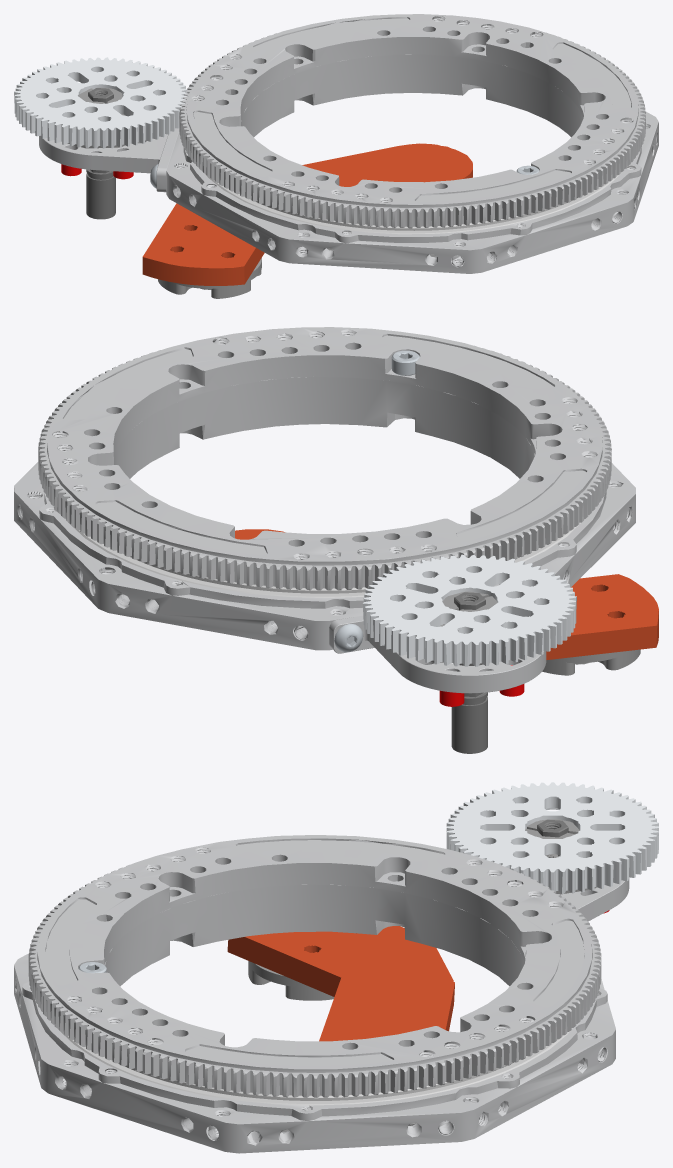
File: turret.glb
3 views of the same model, one above another, from view 1: azimuth 30°, elevation 25°; view 2: azimuth 150°, elevation 25°; view 3: azimuth 270°, elevation 25° (orthographic). The views are drawn at different scales.
Visible parts, largest first — view 1: part-135, part-130, part-133, part-142, part-326, part-128, part-124, part-137, part-125, part-329; view 2: part-135, part-130, part-133, part-142, part-326, part-128, part-137, part-124, part-329, part-125, part-129; view 3: part-135, part-130, part-133, part-142, part-326, part-124, part-125, part-128, part-329.
Part boxes in pixels (<box>): part-135: <box>179,14,645,228</box>; part-130: <box>166,111,658,273</box>; part-133: <box>241,52,582,137</box>; part-142: <box>14,57,187,148</box>; part-326: <box>142,143,472,285</box>; part-128: <box>39,128,179,192</box>; part-124: <box>205,165,634,256</box>; part-137: <box>86,88,115,219</box>; part-125: <box>250,197,577,230</box>; part-329: <box>158,258,261,298</box>; part-135: <box>38,327,611,590</box>; part-130: <box>14,462,635,650</box>; part-133: <box>76,376,534,488</box>; part-142: <box>362,554,576,666</box>; part-326: <box>235,529,658,659</box>; part-128: <box>329,615,546,693</box>; part-137: <box>451,592,487,753</box>; part-124: <box>65,518,584,597</box>; part-329: <box>542,649,640,675</box>; part-125: <box>123,550,532,593</box>; part-129: <box>334,624,363,652</box>; part-135: <box>28,835,601,1097</box>; part-130: <box>14,953,615,1153</box>; part-133: <box>104,881,526,1054</box>; part-142: <box>446,782,658,893</box>; part-326: <box>227,926,454,1041</box>; part-124: <box>58,1028,572,1131</box>; part-125: <box>111,1059,519,1100</box>; part-128: <box>560,877,629,921</box>; part-329: <box>248,961,334,1000</box>.
Bounding box in the file's own units: 0.1769 × 0.0415 × 0.1604.
